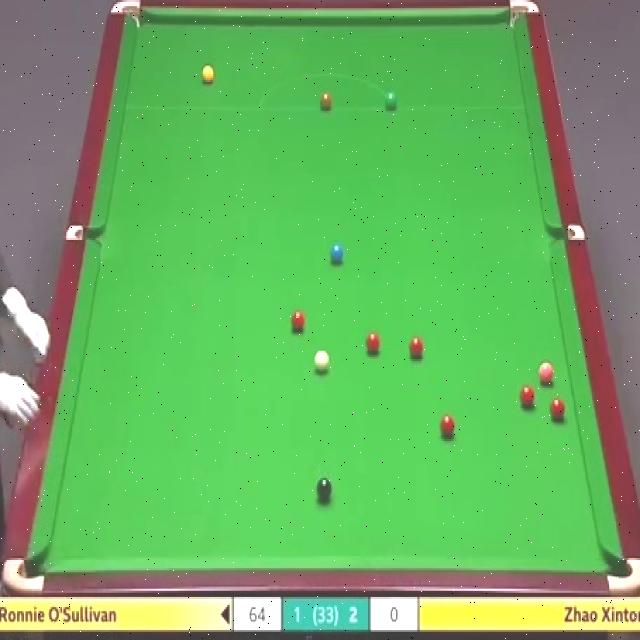black-ball: (317, 475, 334, 501)
blue-ball: (331, 242, 343, 266)
brown-ball: (320, 93, 333, 111)
green-ball: (385, 91, 397, 110)
pink-ball: (538, 360, 556, 386)
red-ball: (438, 414, 456, 439), (409, 333, 425, 359), (365, 331, 380, 354), (520, 386, 536, 407), (551, 399, 565, 422), (292, 310, 304, 334)
white-ball: (312, 348, 331, 377)
yellow-ball: (201, 65, 216, 87)
